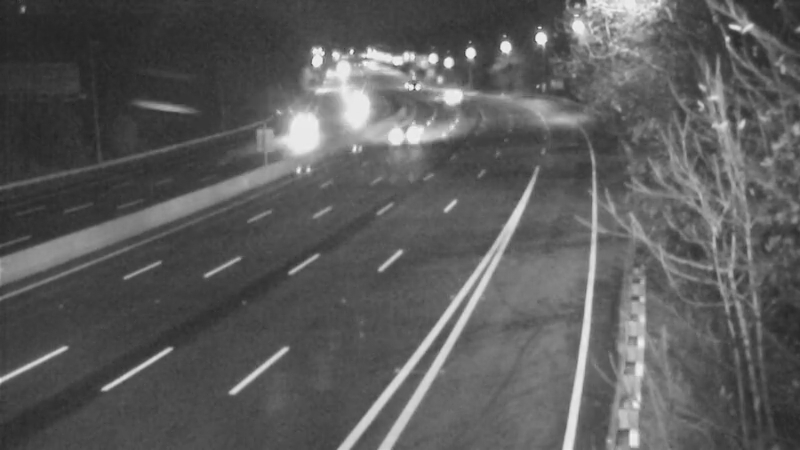vehicle: (383, 55, 433, 105), (426, 71, 476, 121), (386, 102, 436, 152), (275, 102, 325, 152), (335, 81, 385, 131)
